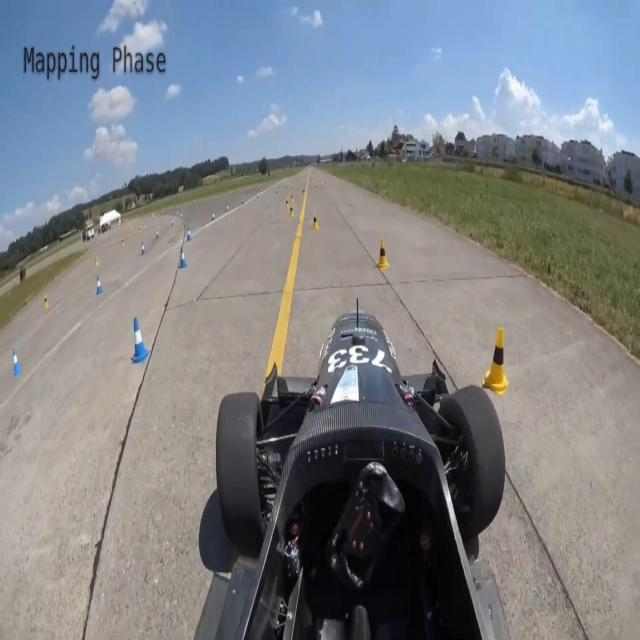blue_cone: (130, 315, 151, 364), (10, 347, 22, 378), (95, 273, 104, 296), (179, 247, 187, 269), (186, 227, 192, 242), (141, 241, 146, 255), (156, 228, 160, 240), (211, 212, 215, 222)
yellow_cone: (482, 324, 509, 397), (375, 238, 390, 270), (312, 213, 320, 231), (43, 295, 50, 308), (290, 206, 294, 218), (95, 256, 99, 268), (286, 198, 290, 209), (291, 195, 294, 204)
